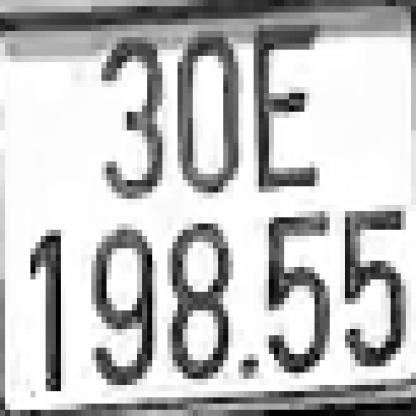0: (178, 37, 238, 199)
1: (25, 223, 76, 385)
3: (101, 37, 162, 199)
5: (340, 205, 401, 360), (264, 211, 324, 366)
8: (167, 224, 228, 372)
9: (92, 224, 152, 378)
E: (248, 25, 314, 186)
